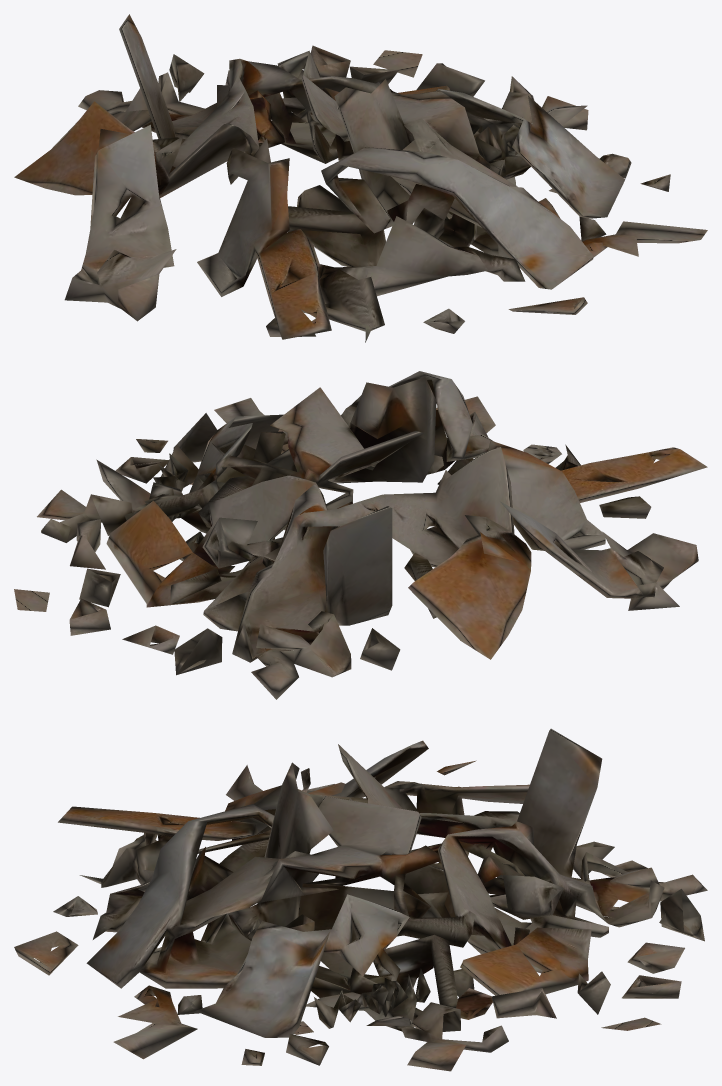
Rendered from metal_frags.glb.
3 renders of one model, top to bottom at view 1: azimuth 30°, elevation 25°; view 2: azimuth 150°, elevation 25°; view 3: azimuth 270°, elevation 25°, orthographic.
Parts seen in each view (by area): view 1: metal_frags; view 2: metal_frags; view 3: metal_frags.
Part boxes in pixels (<box>): metal_frags: <box>14,14,707,342</box>; metal_frags: <box>14,371,707,699</box>; metal_frags: <box>14,728,707,1071</box>.
Bounding box in the file's own units: 0.2114 × 0.0559 × 0.22.
1 material, 1 textured.
